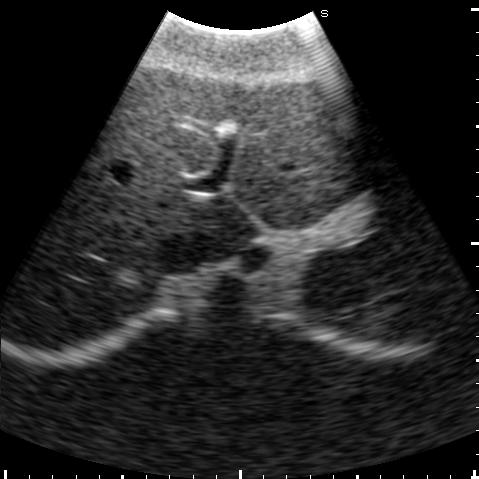IVC: (157, 230, 218, 275)
S1: (197, 194, 262, 260)
S2: (232, 154, 400, 230)
S3: (231, 70, 385, 192)
Tumor: (337, 115, 353, 132)
